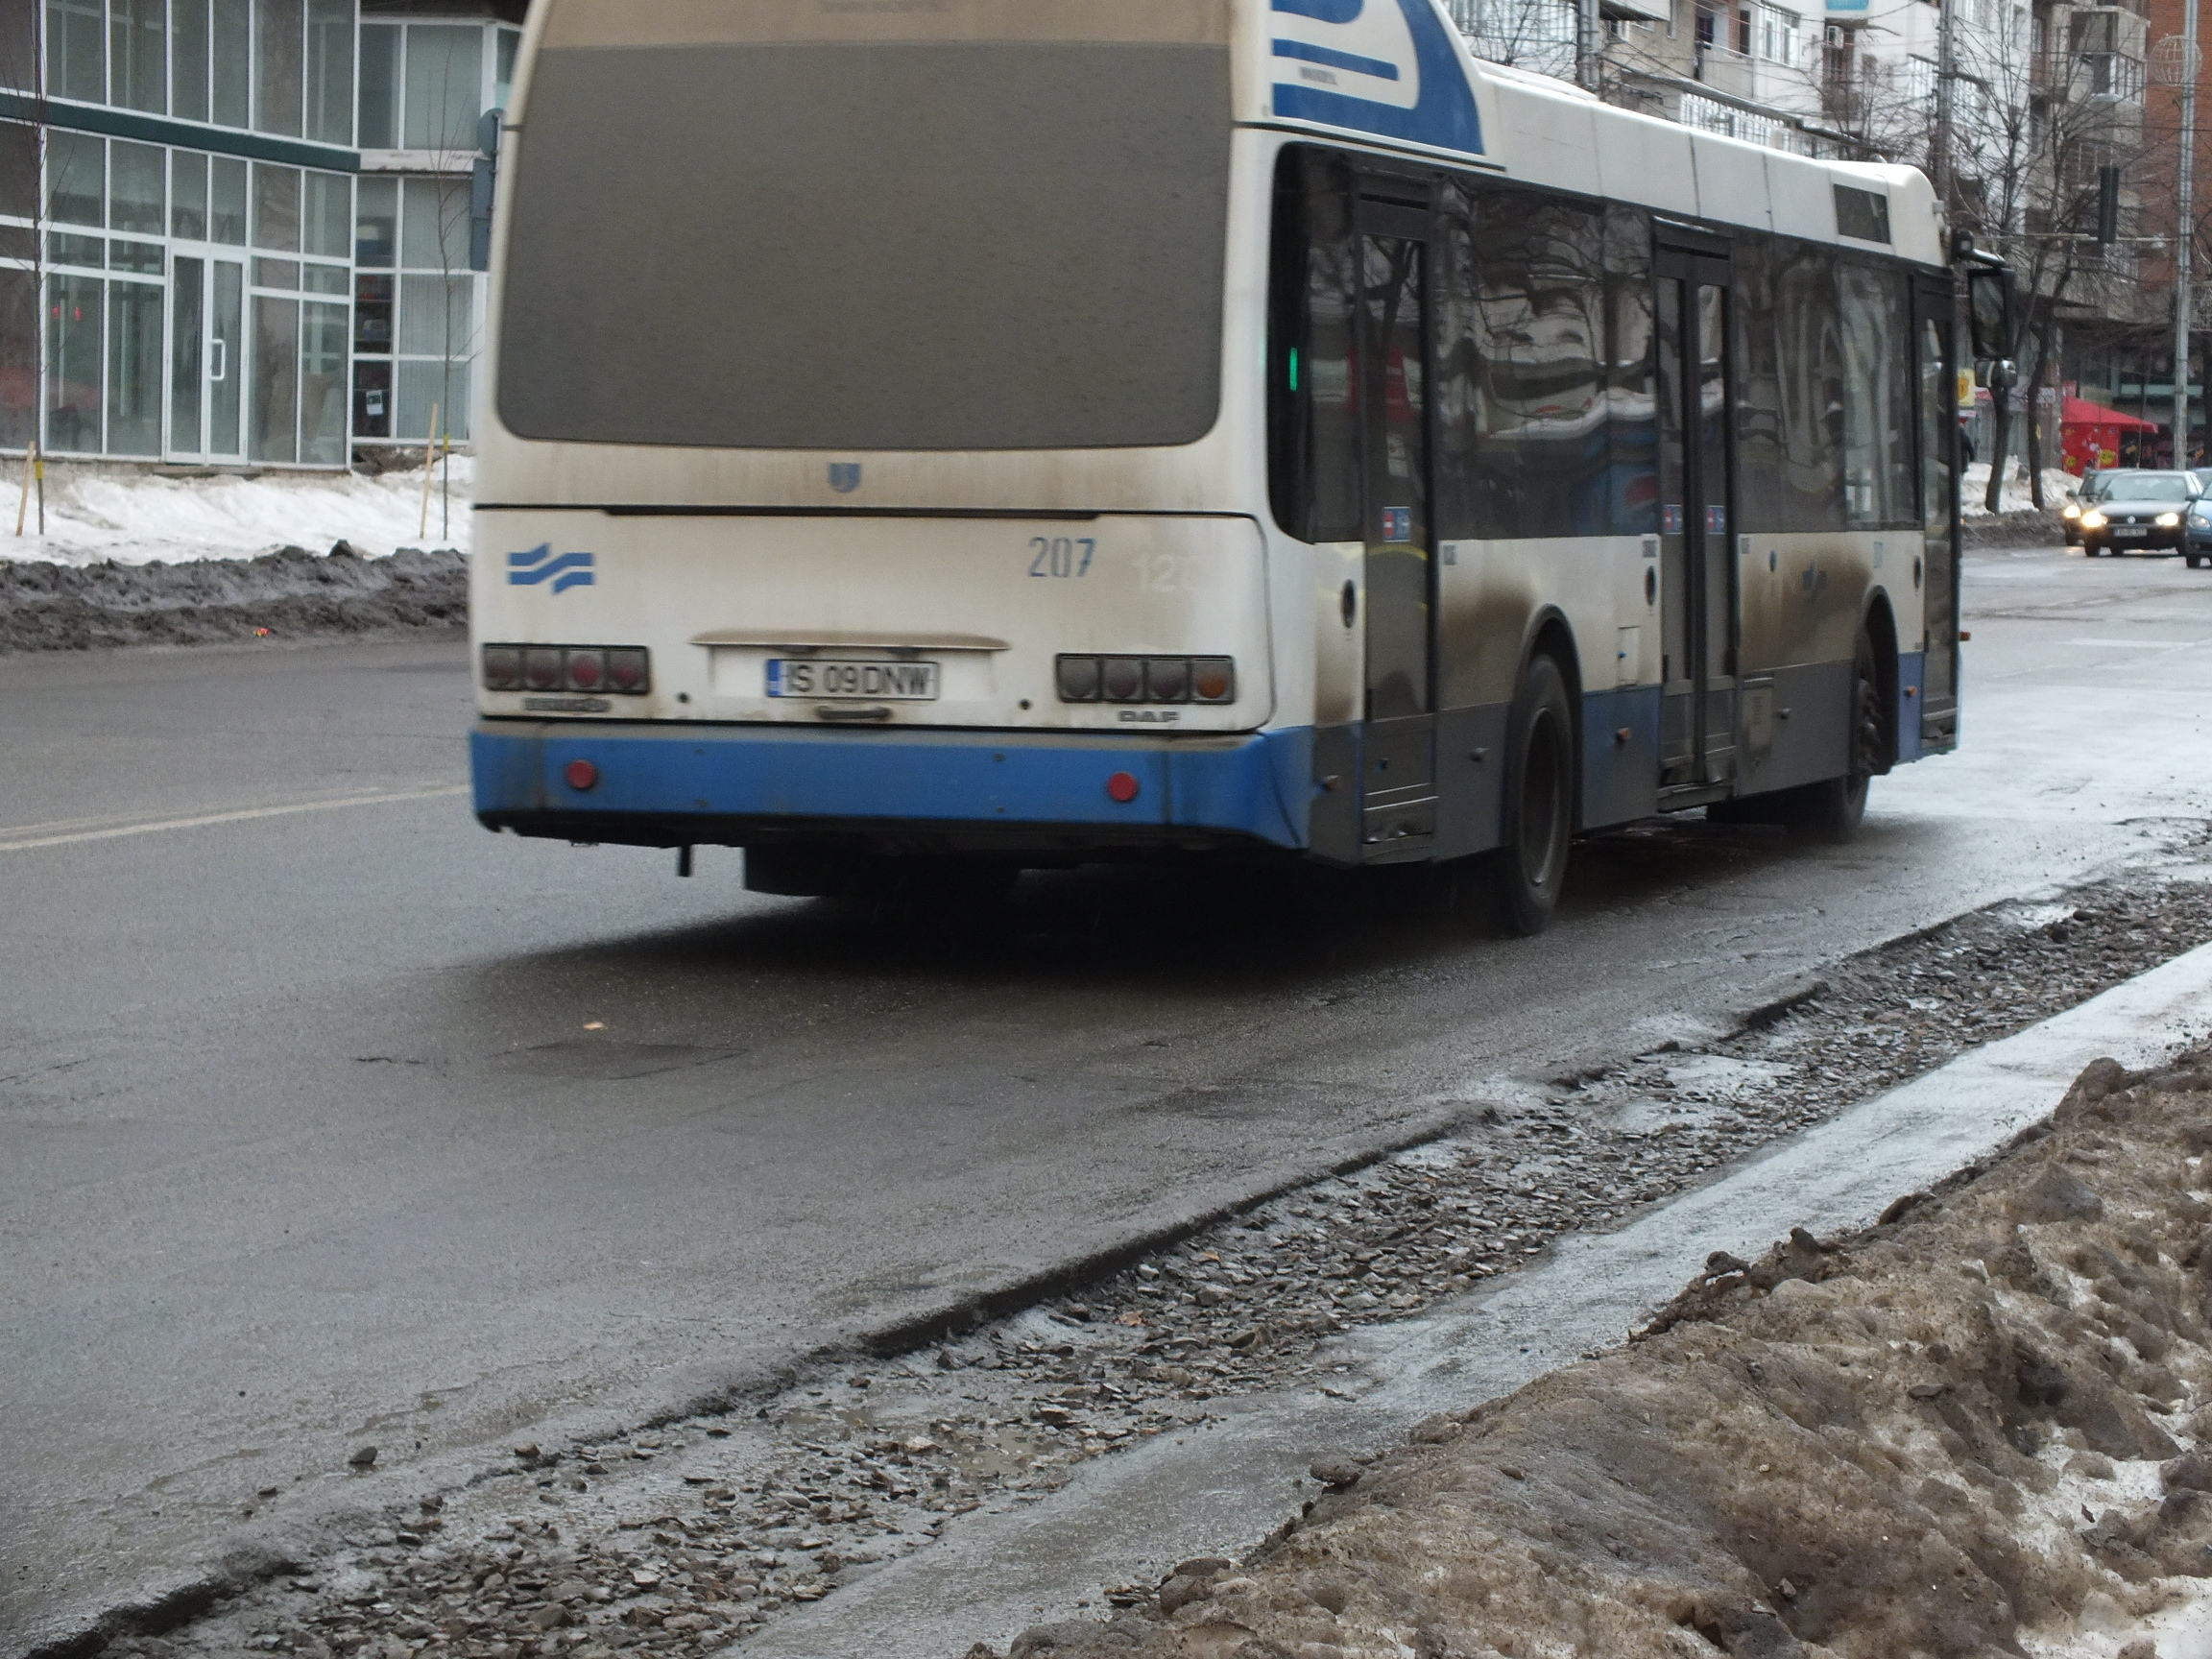IS09DNW: (767, 662, 930, 694)
